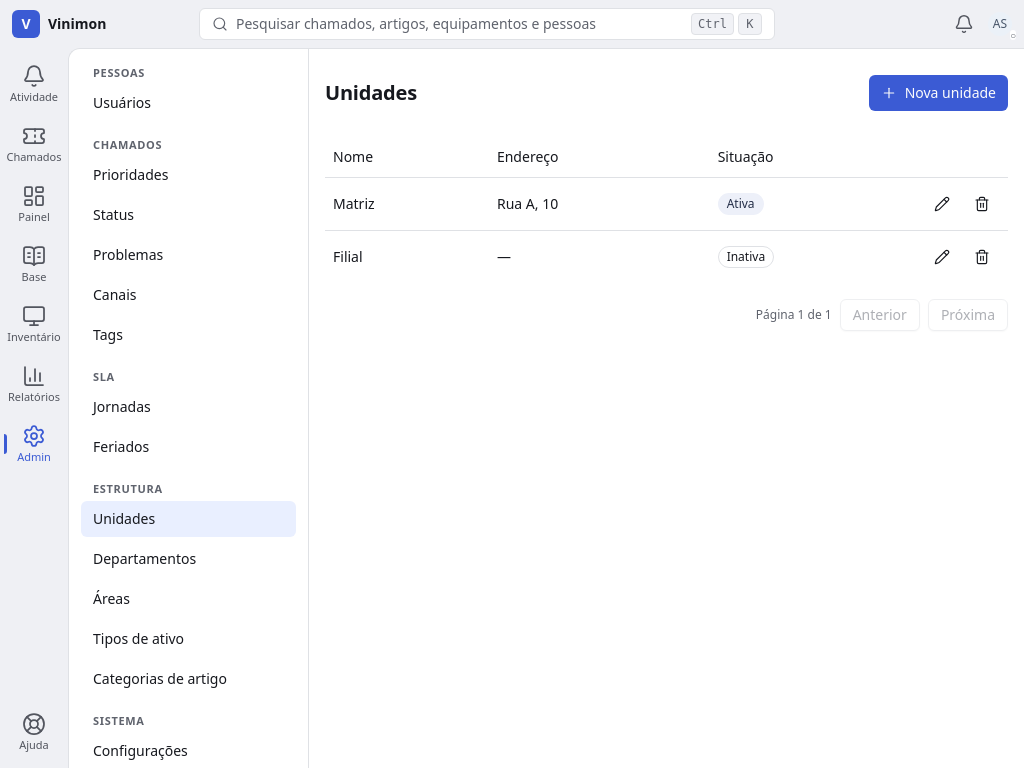
Test: /admin/unidades › 409 ao excluir mostra a mensagem do servidor
Click the button named "Excluir Matriz": (982, 204) [964,186,1000,222]
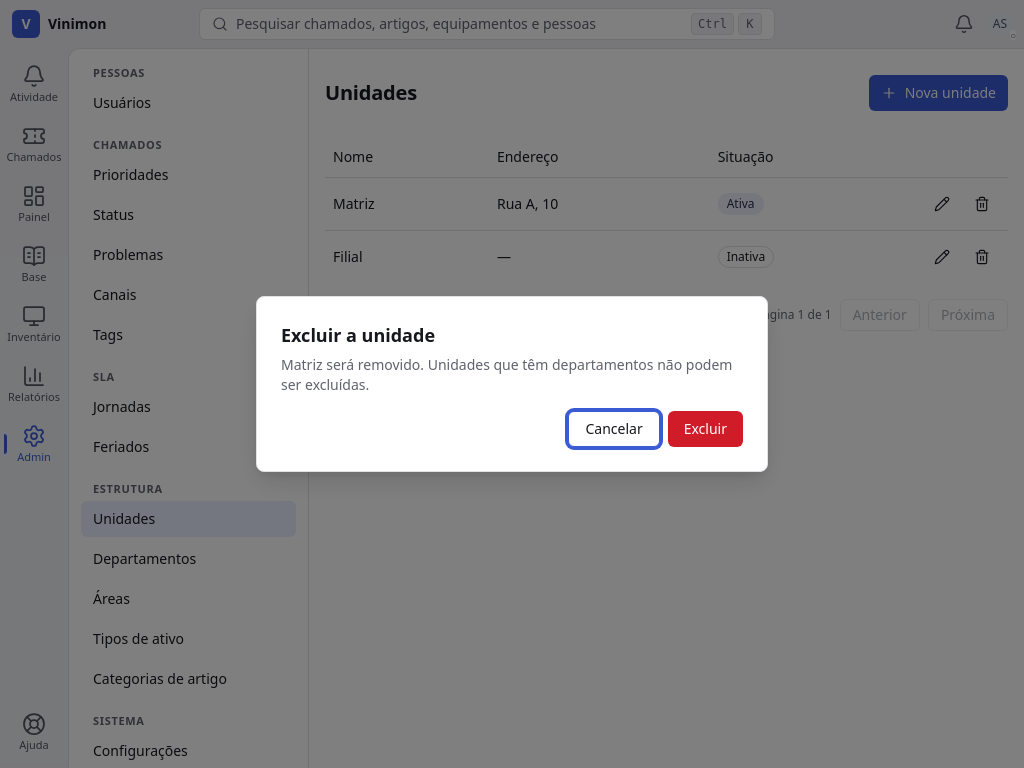
Click the button "Excluir": (705, 429) [668,411,743,447]
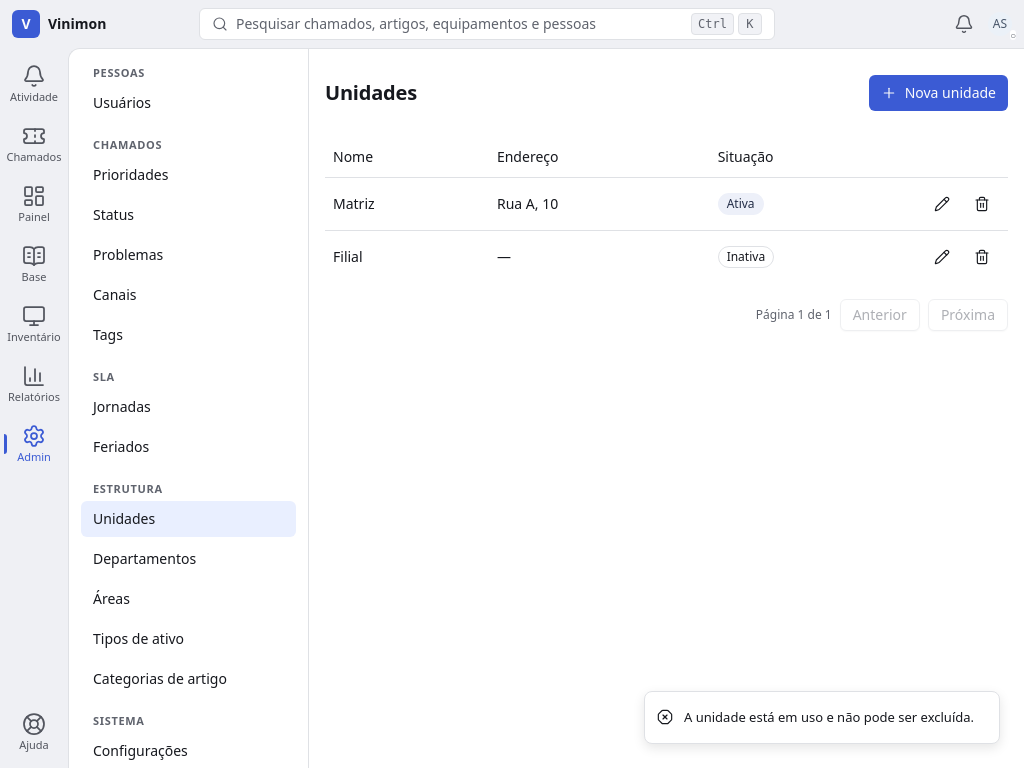
Expected: the text "A unidade está em uso e não pode ser excluída." is shown, [684,708,974,727]
